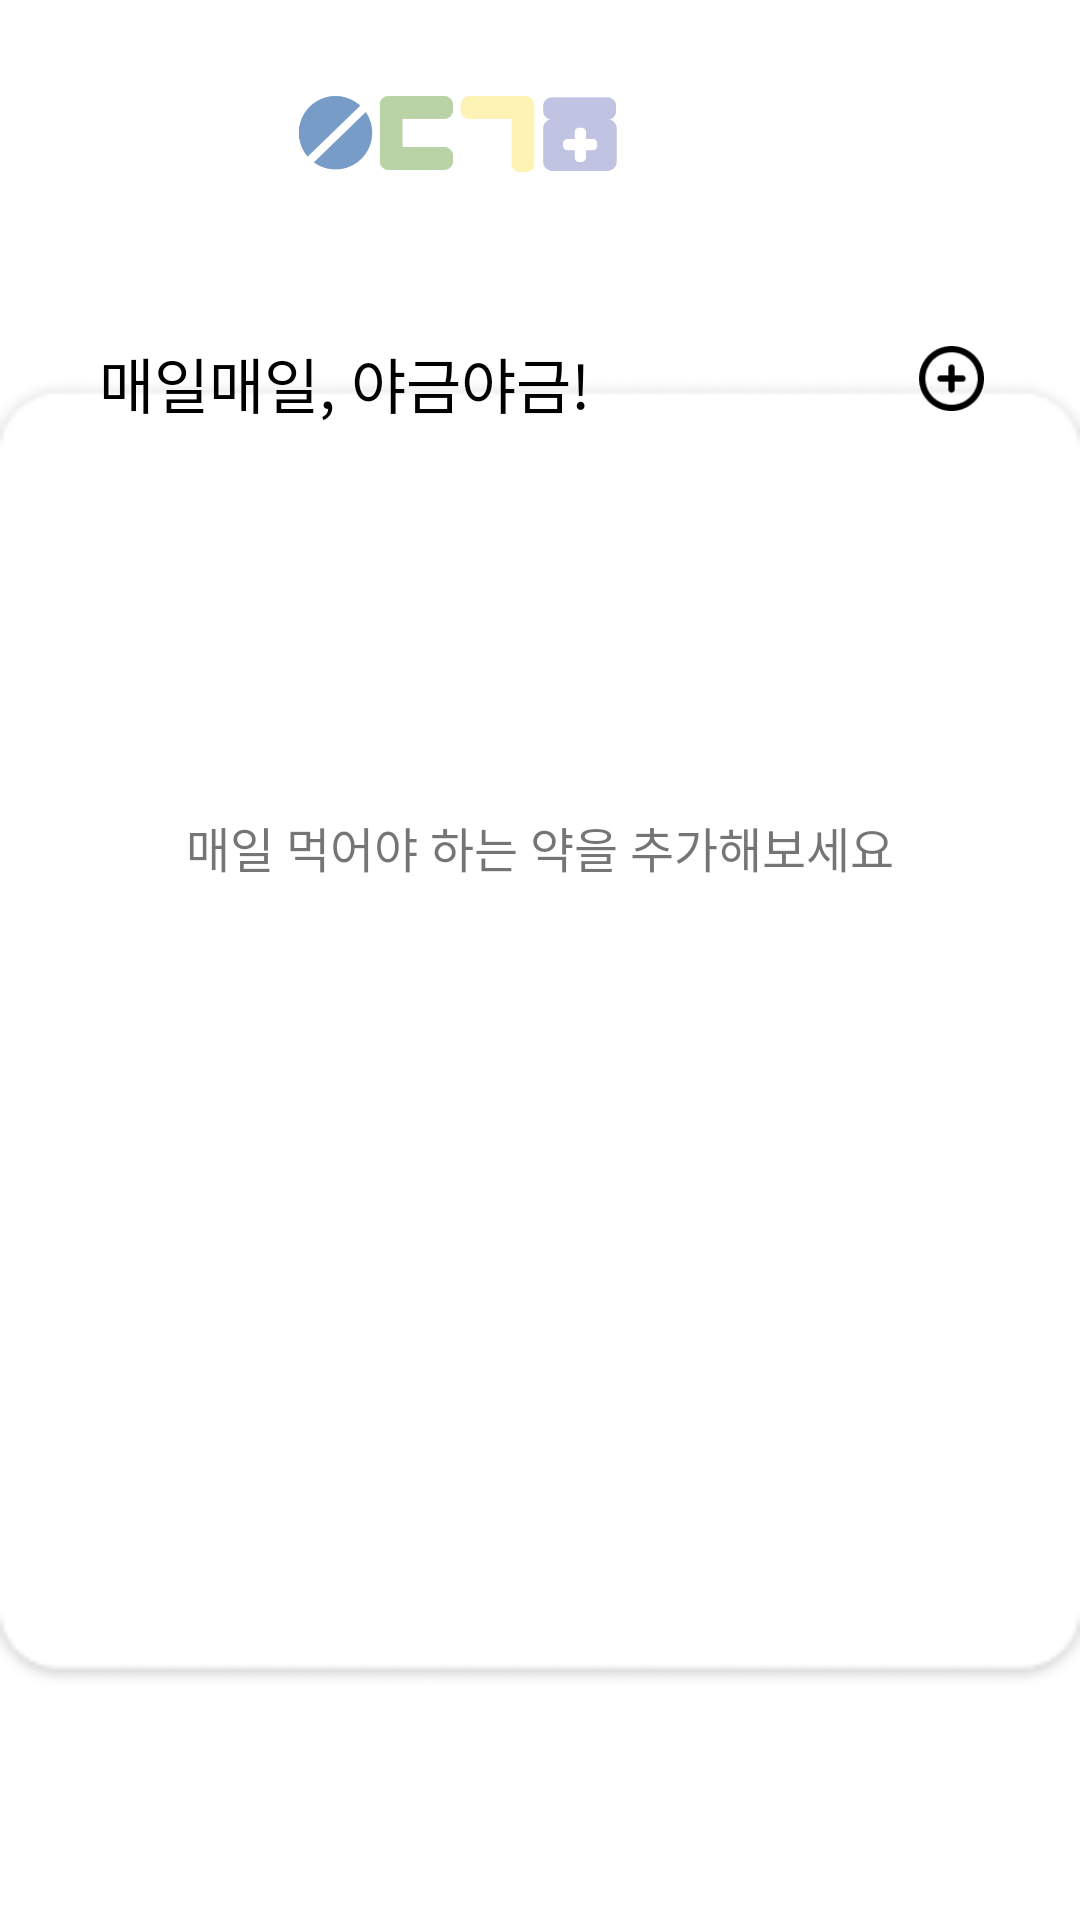

Icons on this 1080w x 1920h Android screen, each with the point to tap as point (x, y):
plus: point (951, 378)
title: point (458, 134)
